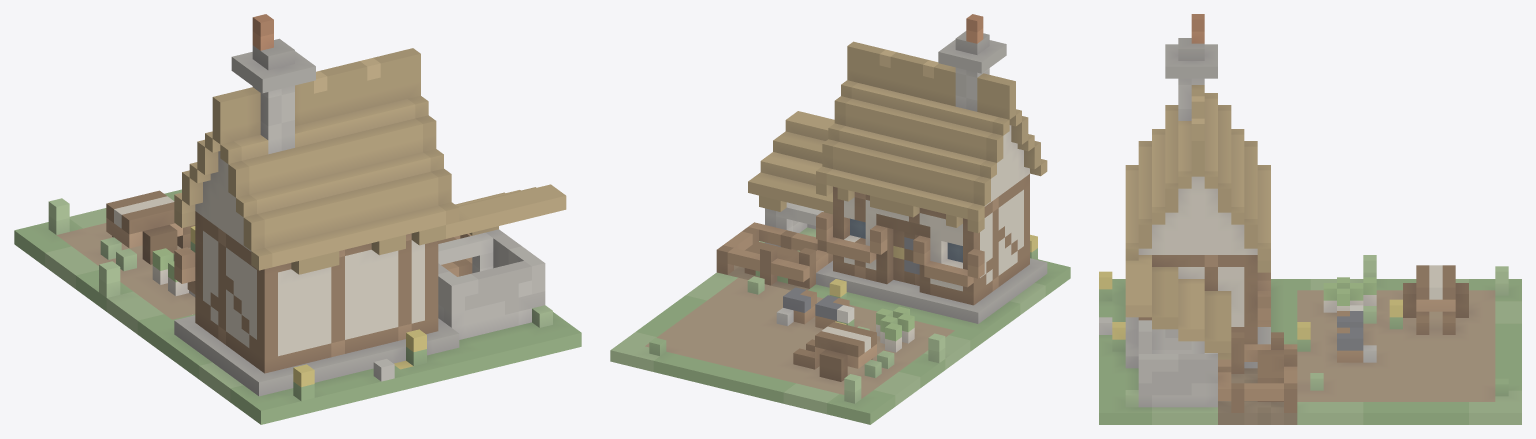
File: pig_farm.glb
The picture shows the model from 3 angles, left to right: view 1: azimuth 30°, elevation 25°; view 2: azimuth 150°, elevation 25°; view 3: azimuth 270°, elevation 25°; orthographic projection. The views are drawn at different scales.
Visible parts, largest first — view 1: pig_farm; view 2: pig_farm; view 3: pig_farm.
Boxes of the visible parts, x1,y1,x2,y2 form: pig_farm: (14,14,581,424); pig_farm: (610,14,1070,424); pig_farm: (1099,14,1521,424).
Bounding box in the file's own units: 3 × 3.12 × 4.
